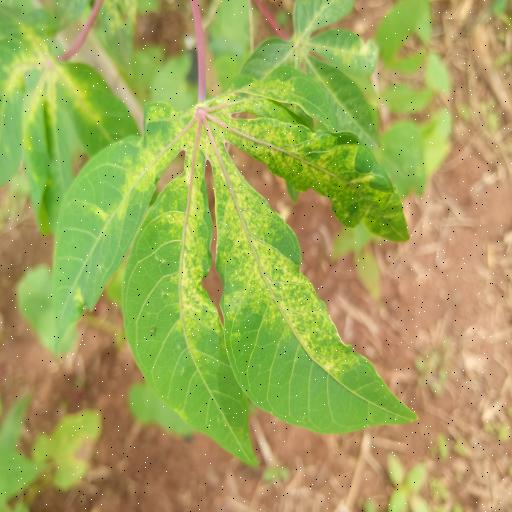Cassava_Mosaic: (43, 83, 424, 474)
